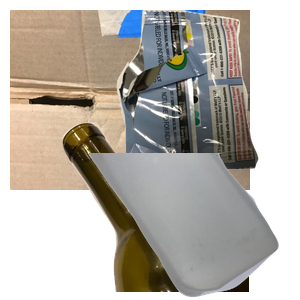cardboard: (10, 10, 250, 190)
glass: (60, 120, 300, 300)
plastic: (84, 153, 300, 300)
trash: (114, 10, 300, 180)
